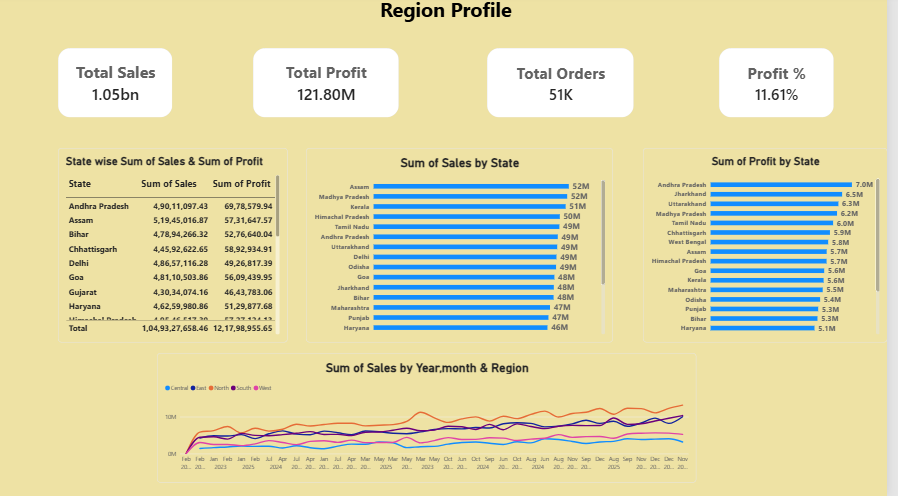

Layout of this report page (visuals, bound fields, positions):
{"tool":"powerbi","page":{"name":"Region Profile","canvas":[1920,1080],"ordinal":3},"visuals":[{"type":"textbox","box":[10.9,0,1908.7,91.3],"z":0},{"type":"cardVisual","fields":{"Data":["Orders.Total Sales"]},"box":[128.3,113,247.8,150],"z":1000},{"type":"cardVisual","fields":{"Data":["Orders.Total Profit"]},"box":[547.8,113,315.2,150],"z":2000},{"type":"cardVisual","fields":{"Data":["Orders.Total Orders"]},"box":[1054.3,113,317.4,150],"z":3000},{"type":"cardVisual","fields":{"Data":["Orders.Profit %"]},"box":[1554.3,113,248,150],"z":4000},{"type":"tableEx","title":"State wise Sum of Sales & Sum of Profit","fields":{"Values":["Orders.State","Sum(Orders.Sales)","Sum(Orders.Profit)"]},"box":[128.3,328.3,495.7,419.6],"z":5000},{"type":"barChart","title":"Sum of Sales by State","fields":{"Category":["Orders.State"],"Y":["Sum(Orders.Sales)"]},"box":[663,328.3,663,419.6],"z":6000},{"type":"barChart","title":"Sum of Profit by State","fields":{"Category":["Orders.State"],"Y":["Sum(Orders.Profit)"]},"box":[1391.3,328.3,528.3,419.6],"z":7000},{"type":"lineChart","title":"Sum of Sales by Year,month & Region","fields":{"Category":["DateTable.Year","DateTable.Month"],"Series":["Orders.Region"],"Y":["Sum(Orders.Sales)"]},"box":[341.3,771.7,1165.2,280.4],"z":8000}]}

Visuals, with their boxes in screenshot pixels (x1, y1, x2, y2), scaled from the page's 1920x1080 canvas onto the 898x496 screenshot:
textbox: [left=5, top=0, right=897, bottom=42]
cardVisual - Orders.Total Sales: [left=60, top=52, right=176, bottom=121]
cardVisual - Orders.Total Profit: [left=256, top=52, right=404, bottom=121]
cardVisual - Orders.Total Orders: [left=493, top=52, right=642, bottom=121]
cardVisual - Orders.Profit %: [left=727, top=52, right=843, bottom=121]
"State wise Sum of Sales & Sum of Profit" tableEx: [left=60, top=151, right=292, bottom=343]
"Sum of Sales by State" barChart: [left=310, top=151, right=620, bottom=343]
"Sum of Profit by State" barChart: [left=651, top=151, right=897, bottom=343]
"Sum of Sales by Year,month & Region" lineChart: [left=160, top=354, right=705, bottom=483]
